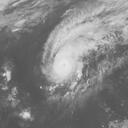cyclone: (39, 29, 91, 87)
